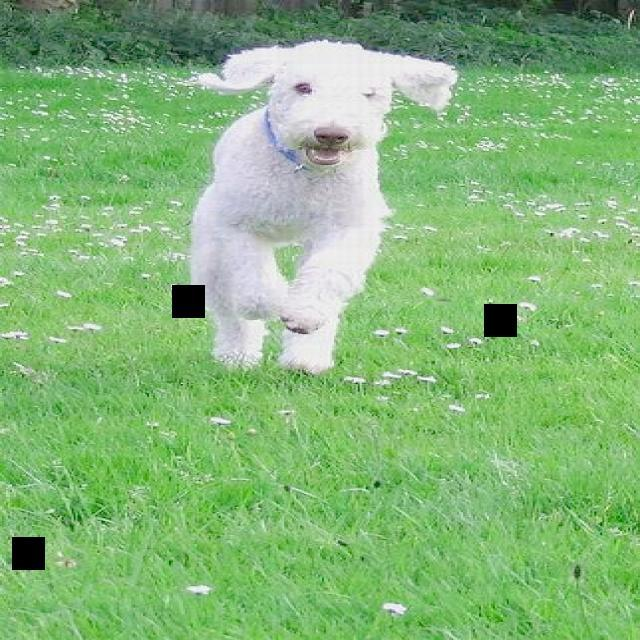adult_dog: (185, 39, 463, 377)
